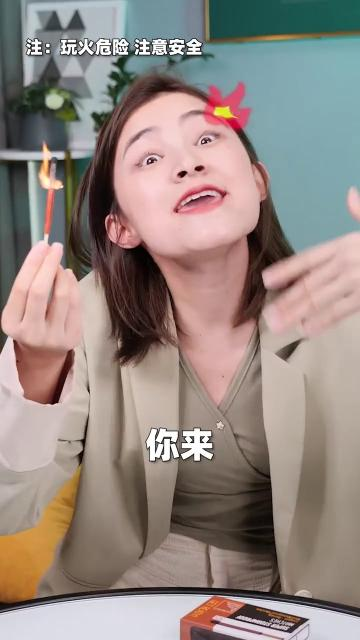fire: (38, 142, 62, 190)
